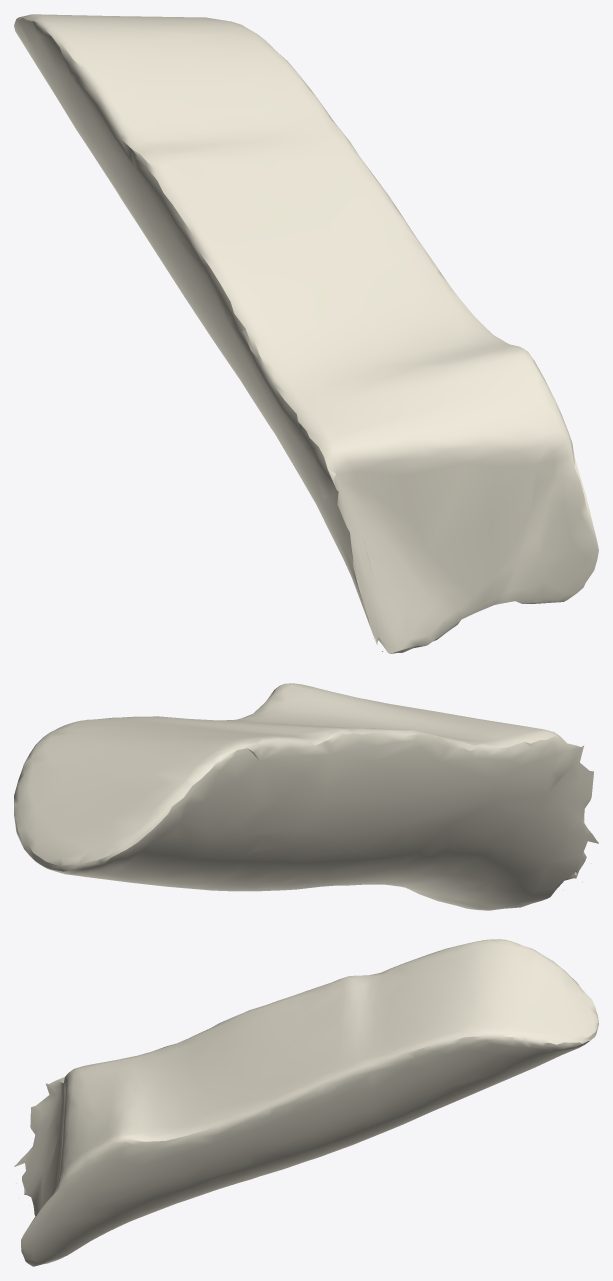
File: fma59514_mm1349.glb
3 renders of one model, top to bottom at view 1: azimuth 30°, elevation 25°; view 2: azimuth 150°, elevation 25°; view 3: azimuth 270°, elevation 25°, orthographic. The views are drawn at different scales.
Parts seen in each view (by area): view 1: FMA59514_MM1349; view 2: FMA59514_MM1349; view 3: FMA59514_MM1349.
Boxes of the visible parts, x1,y1,x2,y2 form: FMA59514_MM1349: (14,14,598,653); FMA59514_MM1349: (14,683,598,910); FMA59514_MM1349: (14,939,598,1266).
Bounding box in the file's own units: 0.00271 × 0.00421 × 0.00795.
